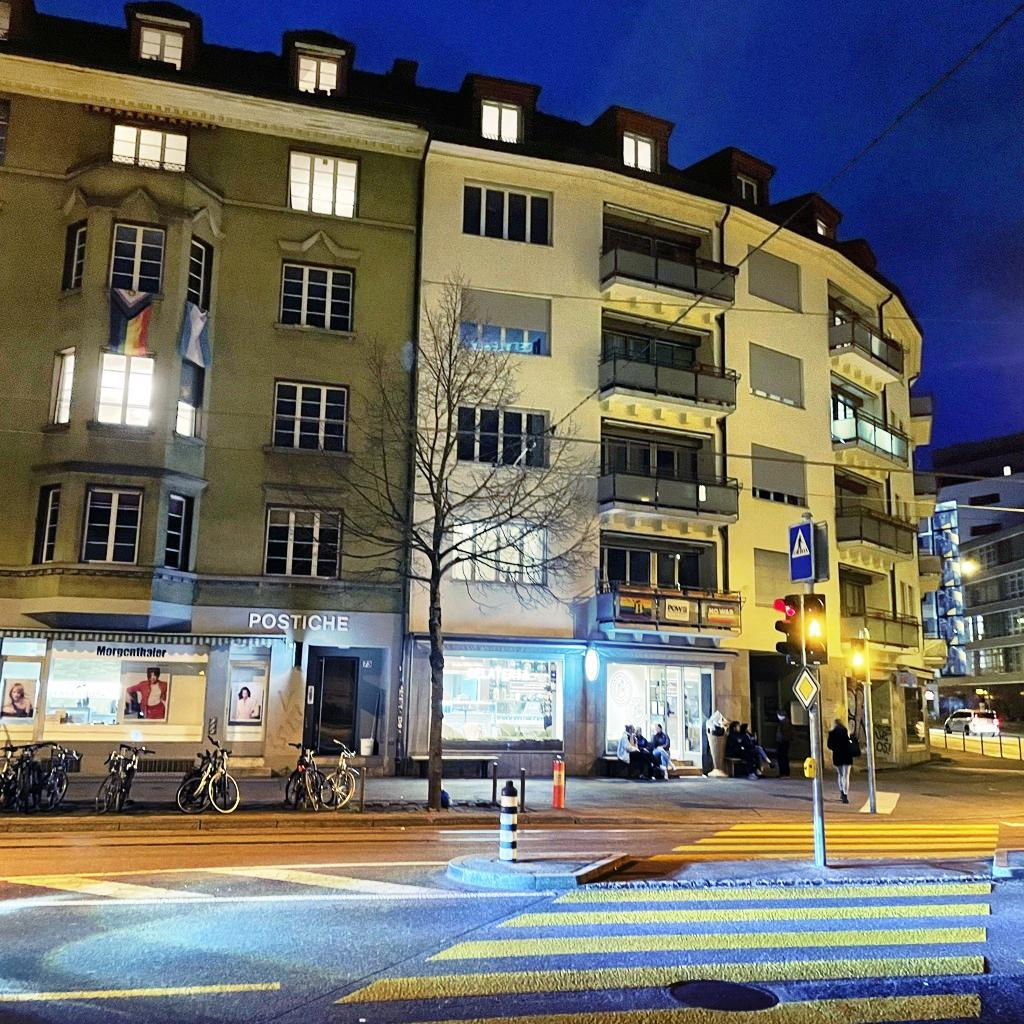balcony-fence: (599, 238, 739, 305), (597, 346, 737, 408), (596, 460, 739, 517), (596, 579, 742, 632), (828, 314, 904, 377), (835, 504, 920, 558), (831, 408, 910, 465), (840, 606, 920, 650), (918, 549, 943, 573), (909, 393, 933, 417), (914, 472, 938, 496), (923, 622, 947, 639)
car: (943, 709, 1002, 736)
facade: (0, 0, 950, 665), (921, 430, 1024, 732)
shop: (0, 596, 752, 778), (822, 660, 930, 767)
street: (0, 727, 1024, 1024)
traffic-infrastructure: (772, 510, 830, 869), (852, 626, 878, 814)
vegetation: (278, 262, 608, 811)
window: (459, 288, 551, 356), (462, 179, 553, 246), (453, 519, 547, 583), (262, 506, 342, 578), (457, 403, 547, 467), (279, 258, 356, 331), (273, 379, 349, 452), (284, 149, 360, 217), (80, 487, 143, 565), (95, 351, 154, 427), (108, 222, 165, 294), (748, 340, 805, 409), (751, 441, 808, 509), (112, 123, 189, 172), (747, 244, 800, 313), (753, 547, 803, 609), (137, 23, 187, 75), (296, 54, 341, 103), (480, 97, 525, 145), (176, 359, 203, 438), (601, 546, 650, 587), (602, 435, 652, 475), (164, 492, 187, 571), (656, 550, 701, 590), (52, 353, 75, 426), (40, 488, 61, 564), (655, 442, 697, 480), (604, 330, 651, 362), (622, 129, 655, 174), (835, 473, 870, 514), (187, 238, 206, 309), (655, 340, 696, 370), (604, 226, 653, 251), (69, 224, 87, 290), (831, 388, 859, 421), (656, 239, 695, 261), (840, 579, 864, 614), (736, 172, 758, 206), (0, 98, 11, 165), (834, 314, 852, 348), (0, 0, 10, 43), (817, 219, 827, 237)
